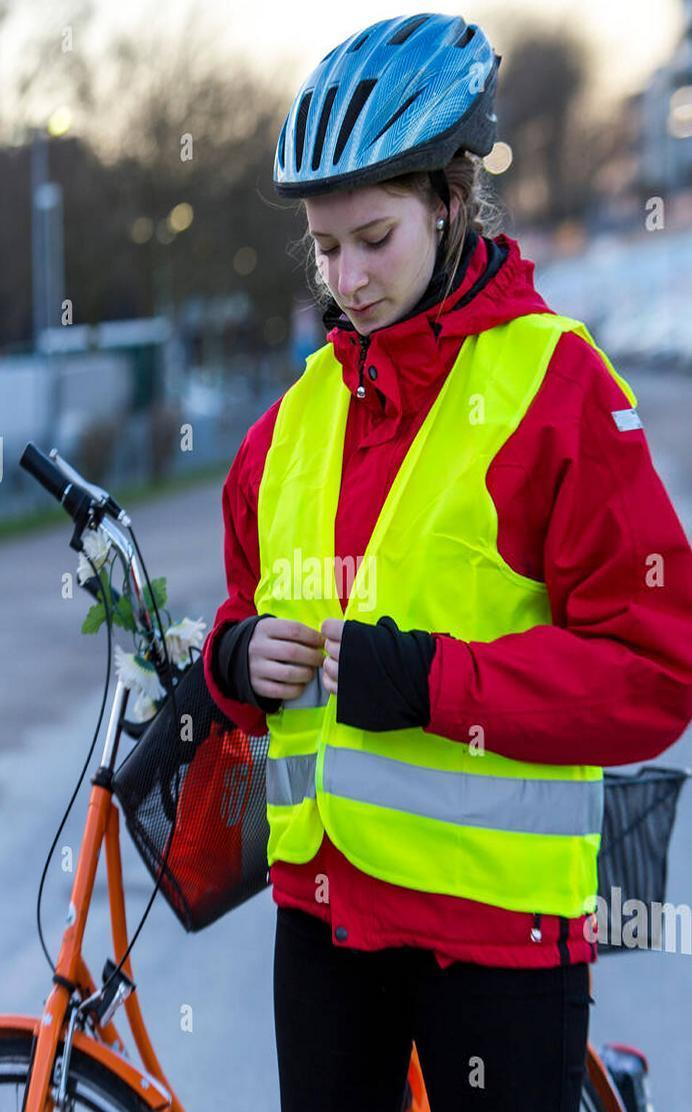Vest: (244, 320, 609, 894)
